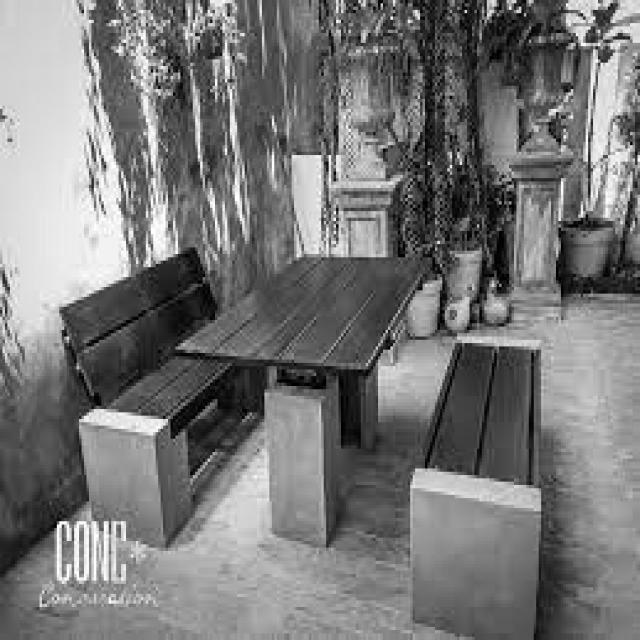table: (173, 210, 441, 412)
